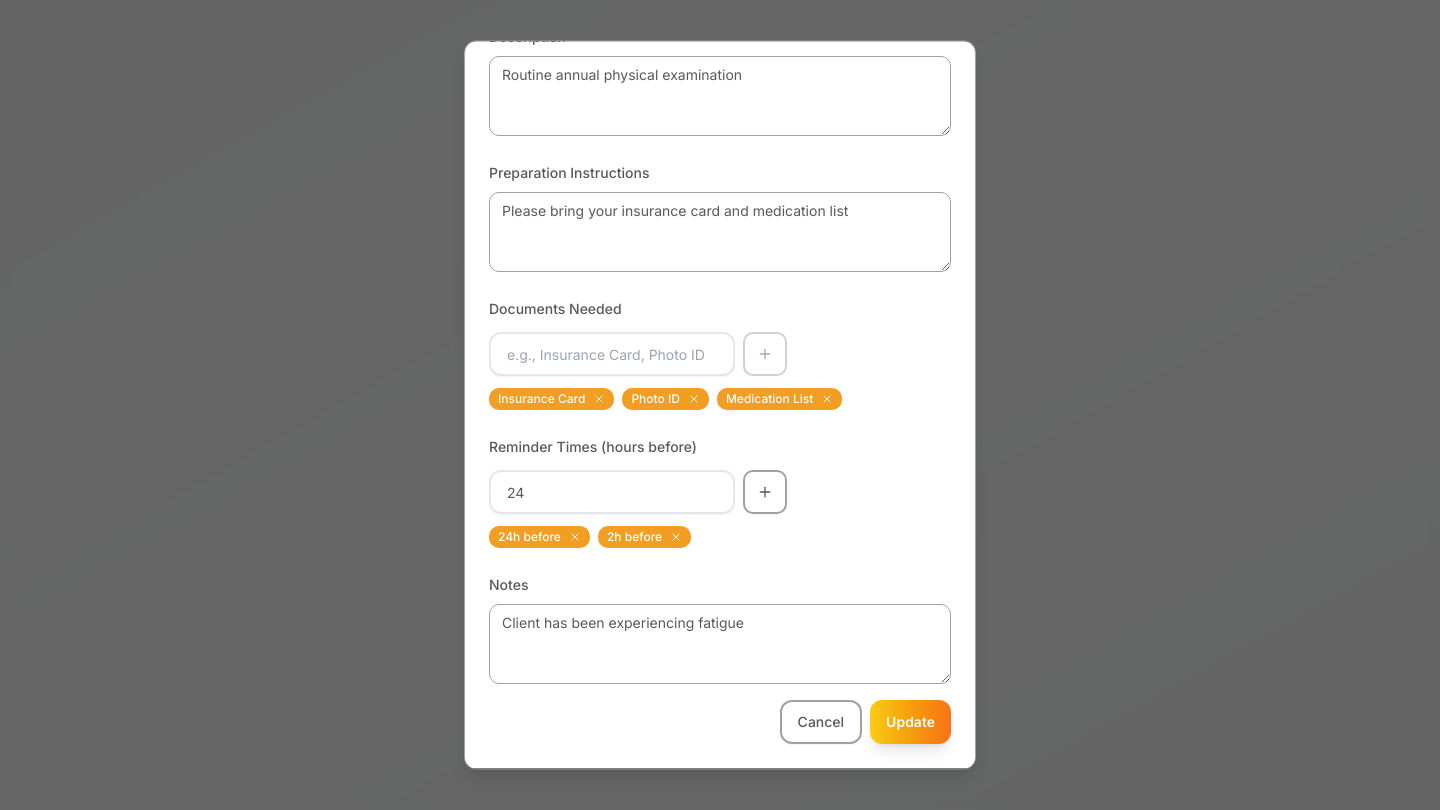
Test case: AppointmentDialog › reminder times management › removes reminder times from the list
(page scrolled)
Expected: the text "24h before" is shown, [489,526,590,548]
Expected: the text "2h before" is shown, [598,526,691,548]
Step 1. Click the button without text in the row of "24" → click(575, 538), box [569,532,581,544]
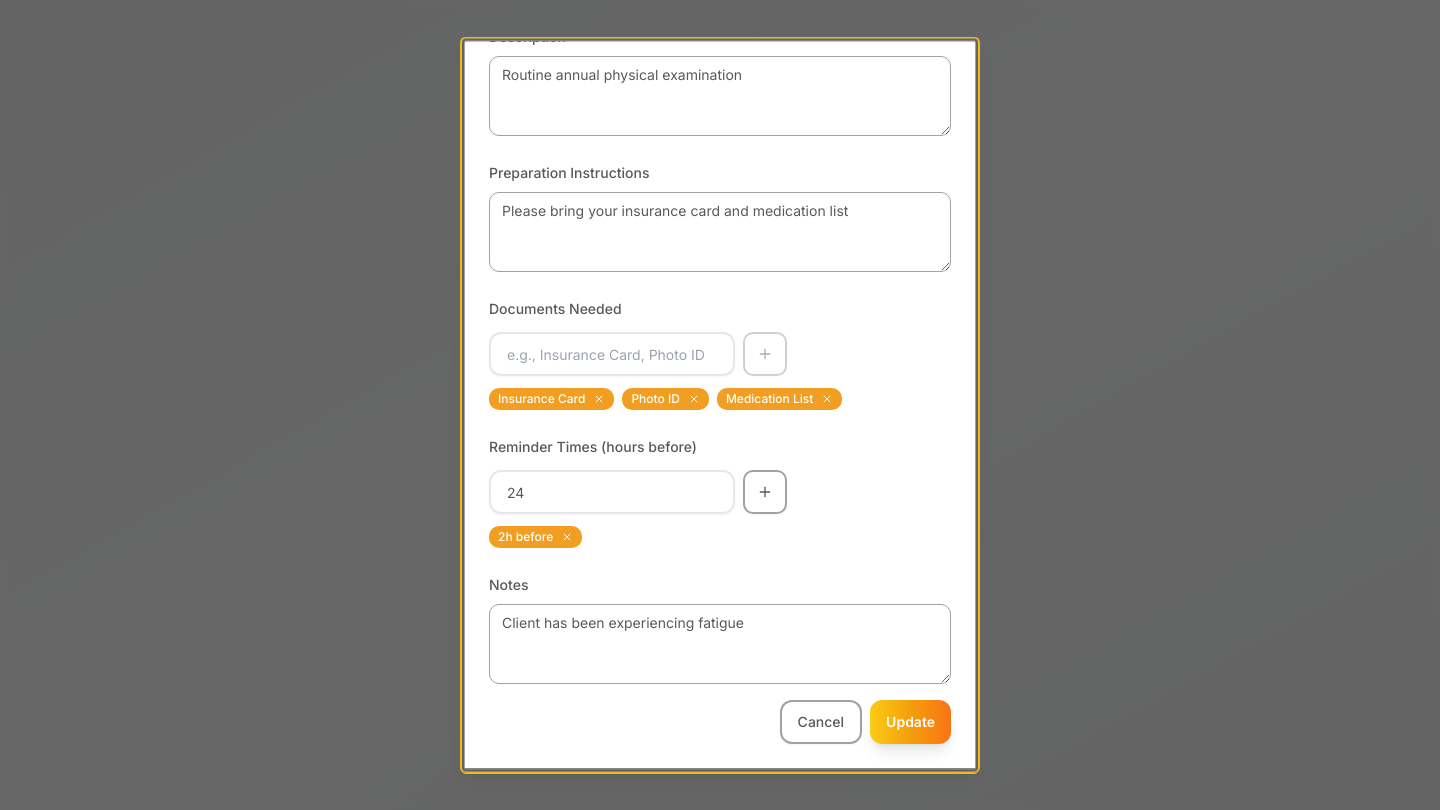
Now the text "24h before" is gone
